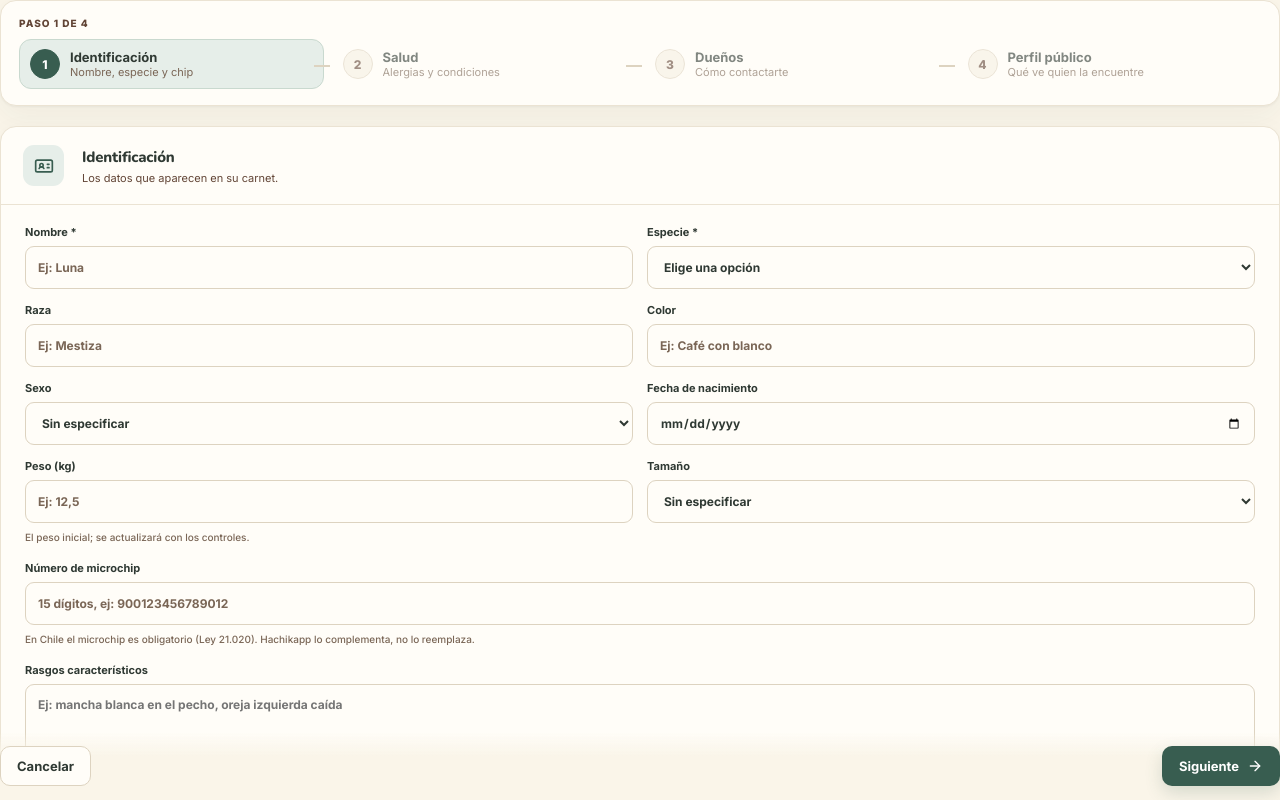
Scenario: PetForm wizard › blocks moving past Identificación until the required fields are set
Step 1. Click the button "Siguiente" → (1221, 766), box [1162, 746, 1279, 786]
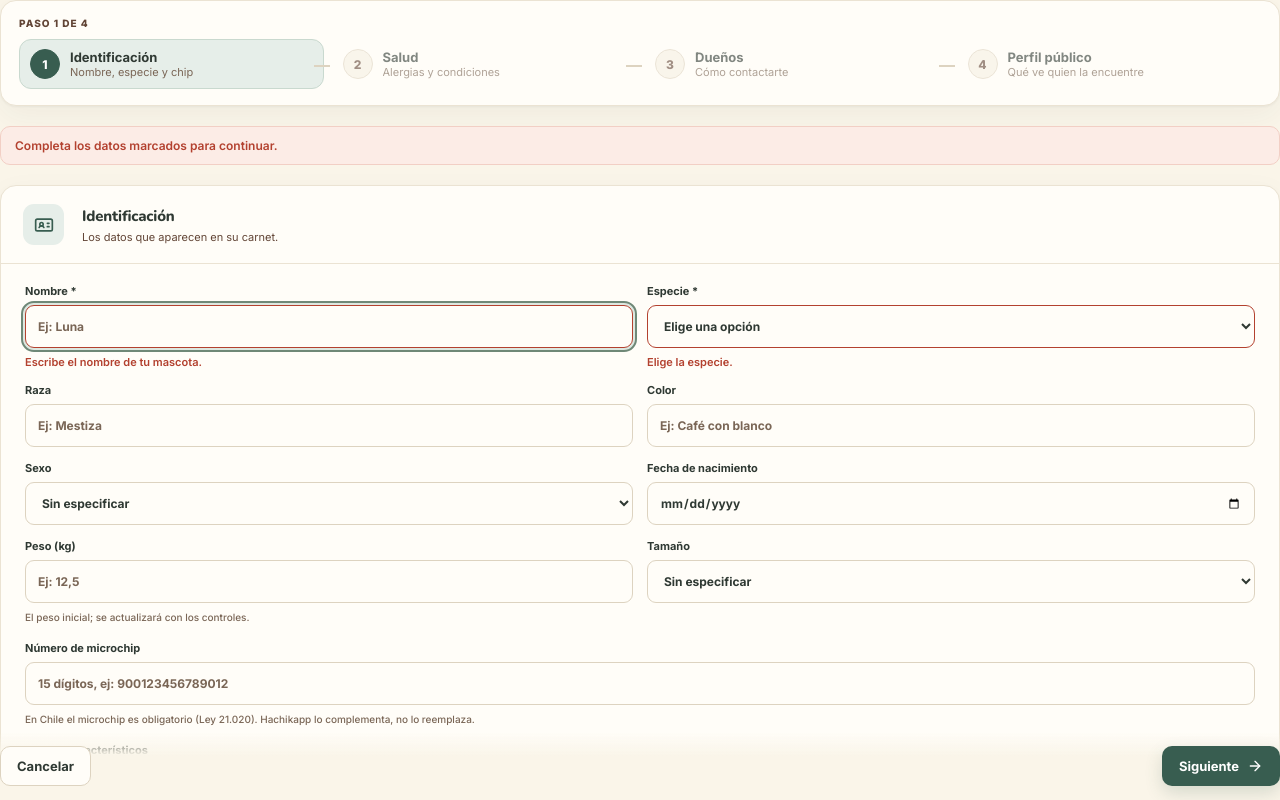
Expected: the text "Paso 1 de 4" is shown, [19, 17, 89, 29]
Expected: the text "Escribe el nombre de tu mascota." is shown, [25, 355, 202, 369]
